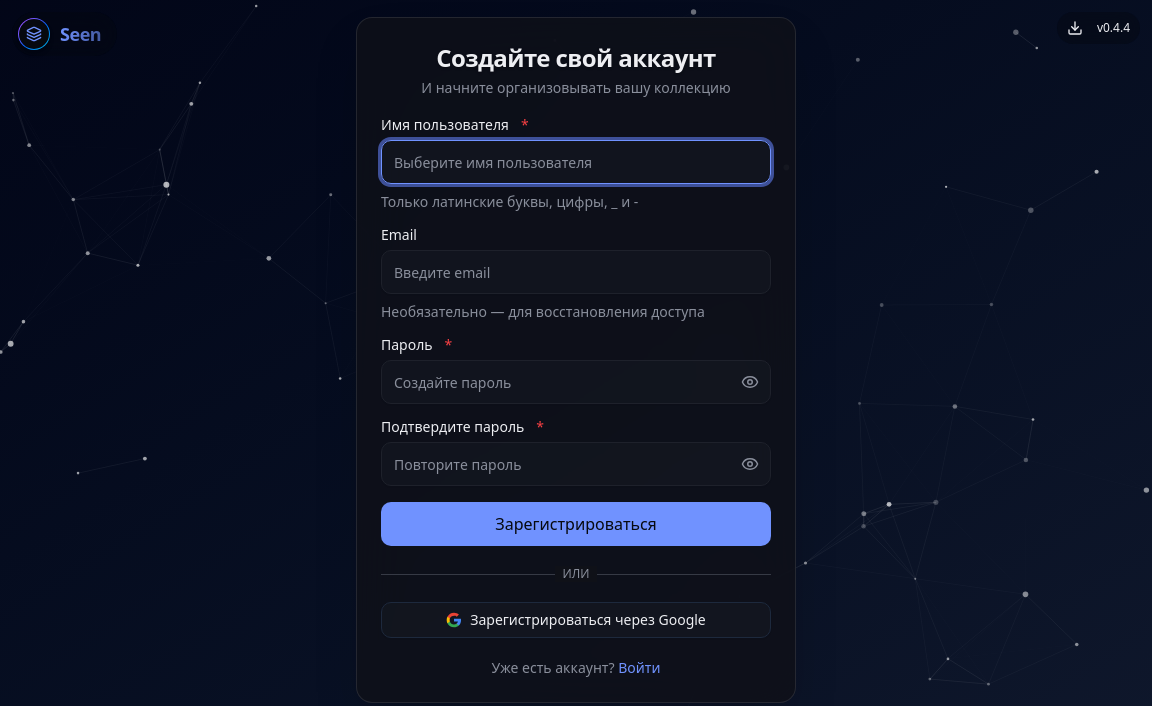
Scenario: RegisterPage › should validate password mismatch
Type "password123" into the password field labelled "Пароль *" at {"x": 576, "y": 382}, box [381,360,771,404]
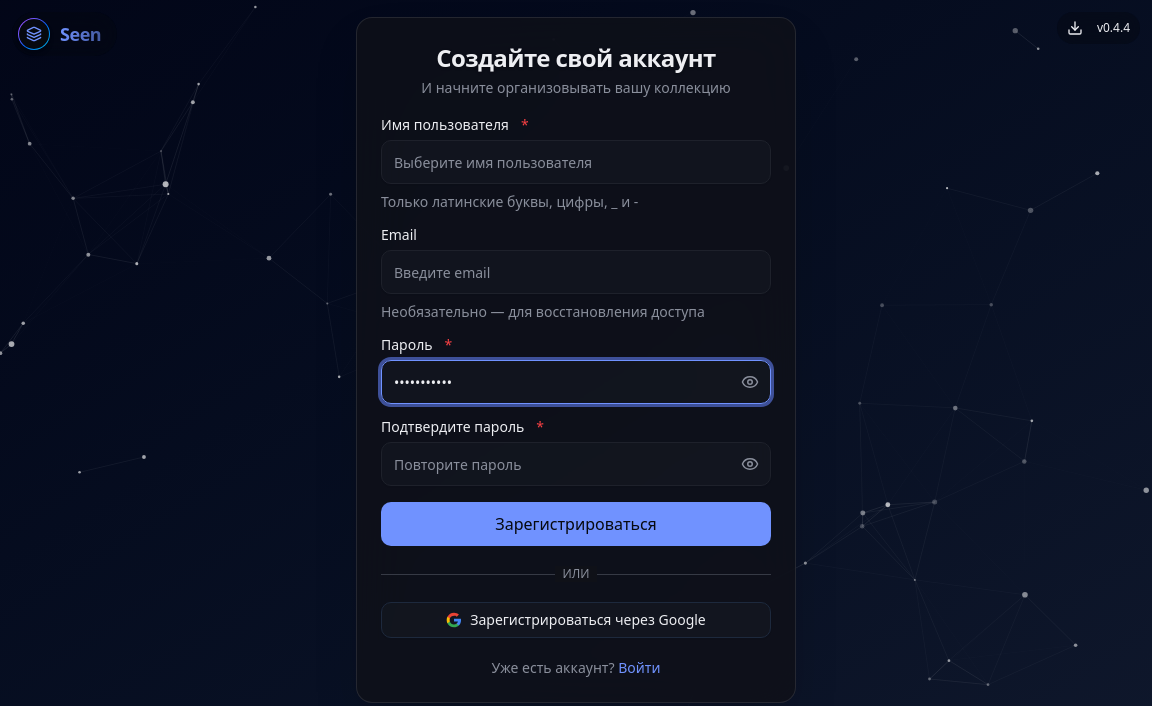
Type "passwordMISMATCH" into the password field labelled "Подтвердите пароль *" at {"x": 576, "y": 464}, box [381,442,771,486]
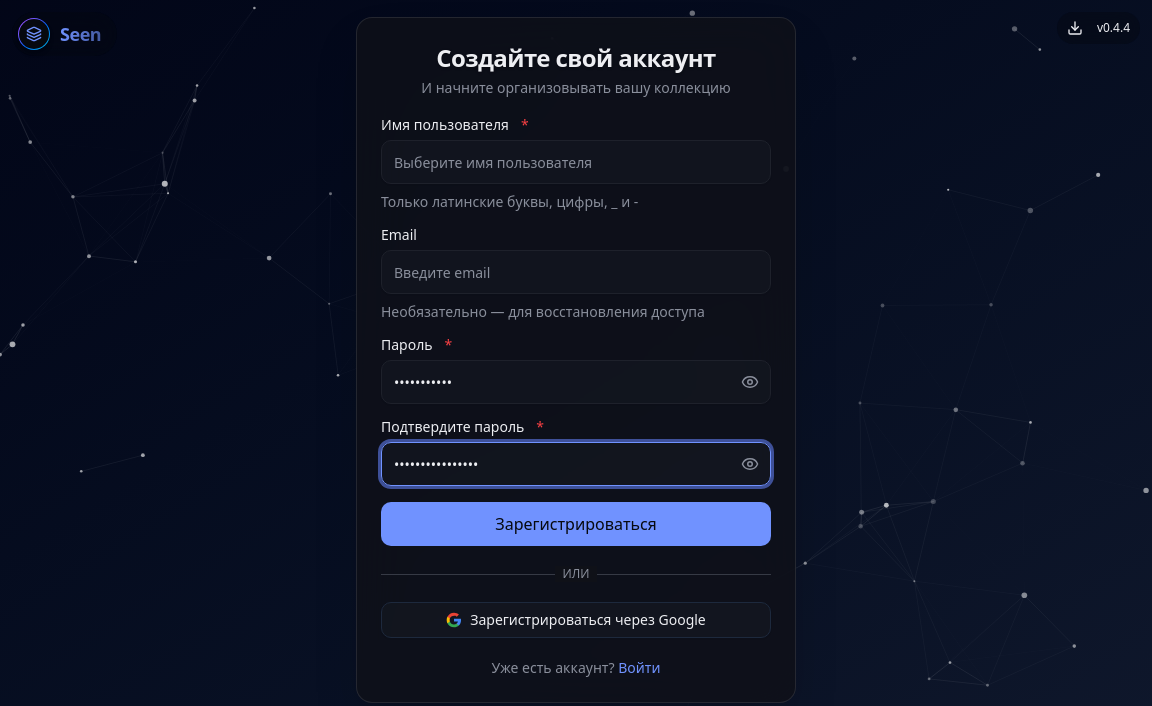
Click the button "Зарегистрироваться" at {"x": 576, "y": 524}, box [381,502,771,546]
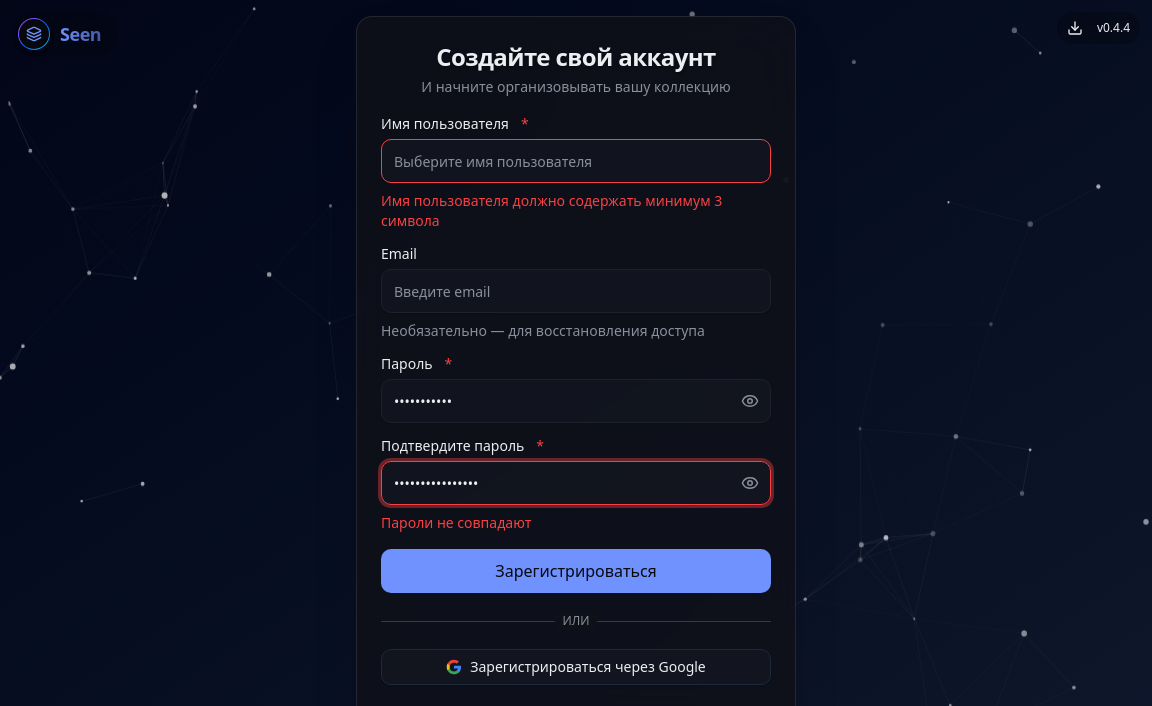
Expected: the text "Пароли не совпадают" is shown, [381,513,531,532]
